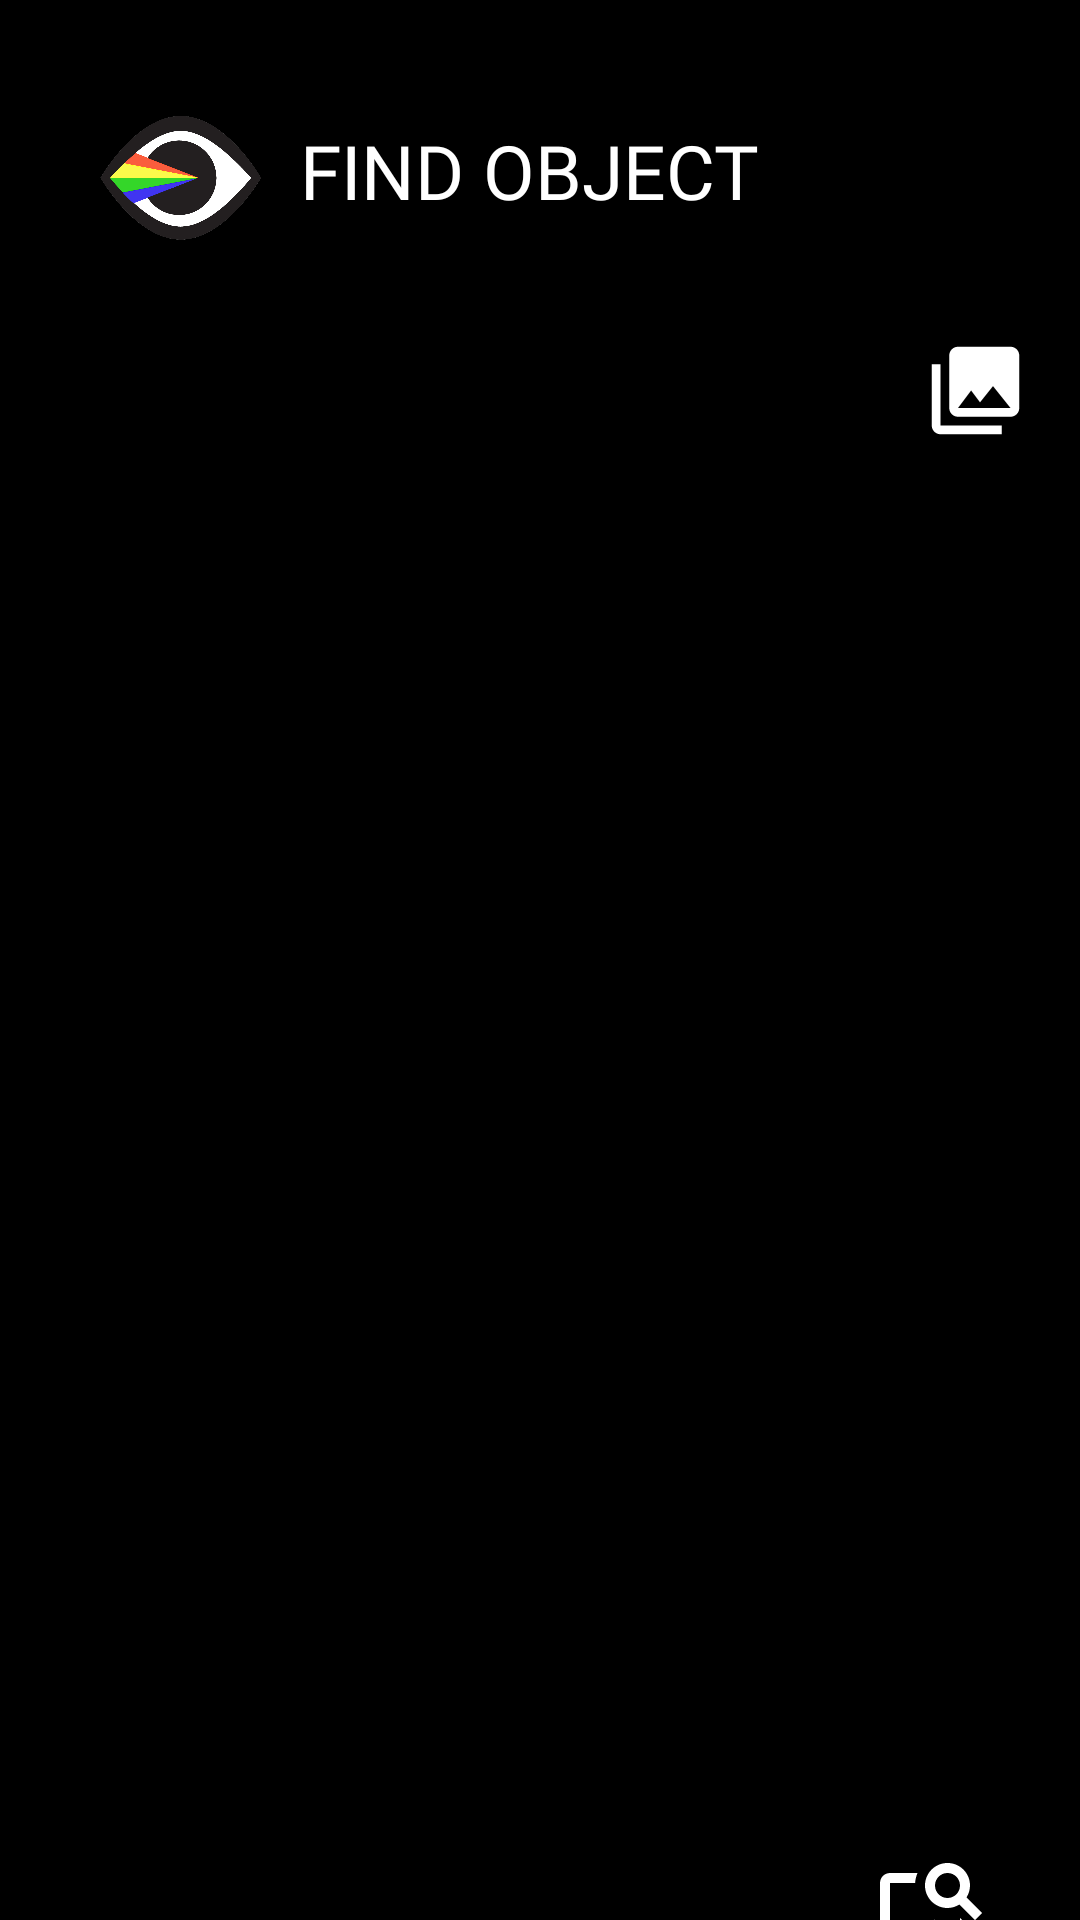

Icons on this 1080×1920 Android screen, each with its box as (x1, y1, x2, y2):
photo library: (931, 346, 1020, 435)
